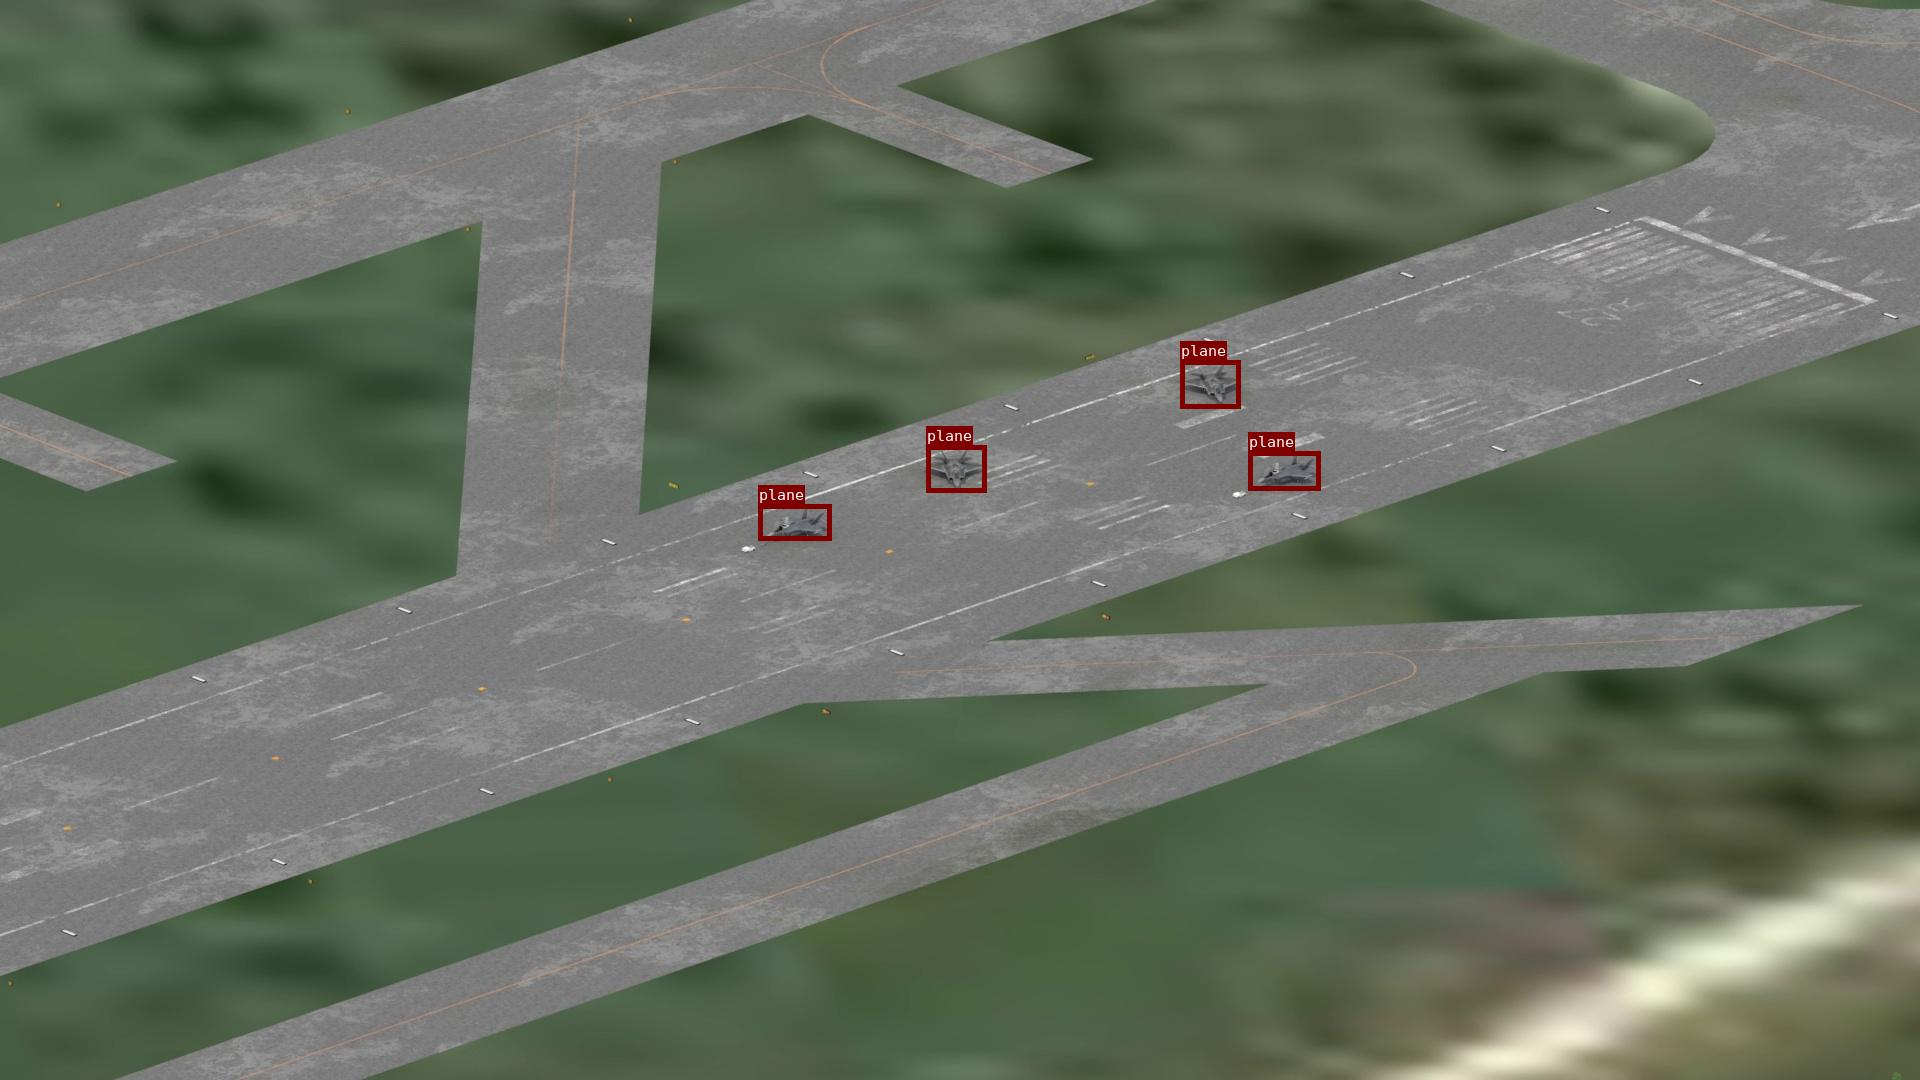plane: (926, 444, 986, 492), (1247, 451, 1320, 491), (1180, 360, 1240, 407), (758, 504, 831, 541)
